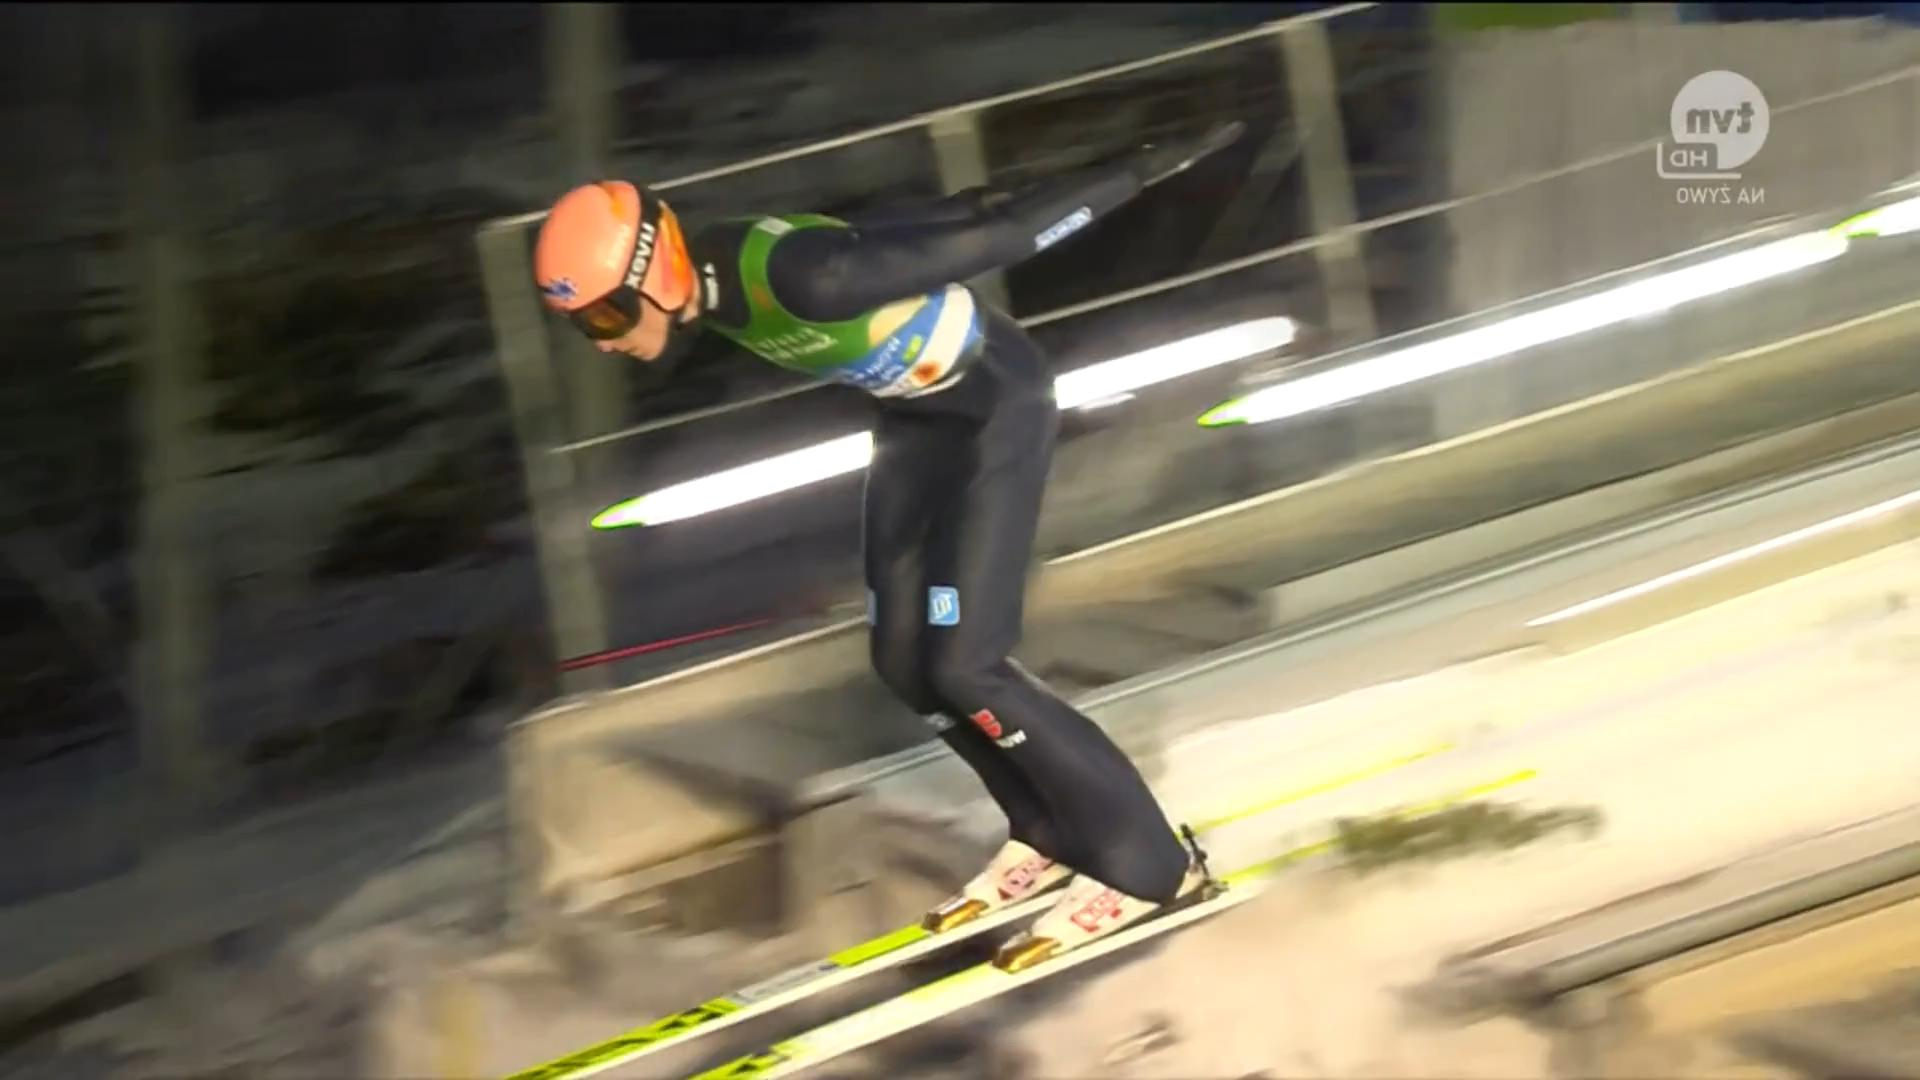prog: (593, 740, 930, 853)
